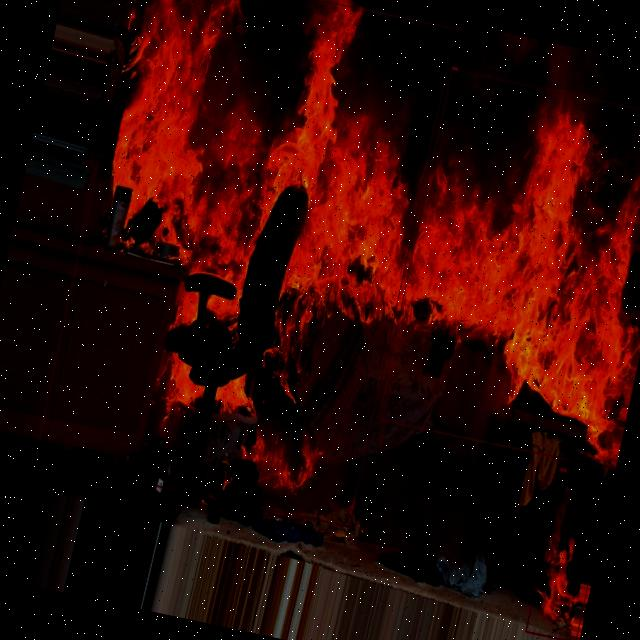fire: (32, 0, 455, 526), (376, 68, 640, 469), (524, 470, 609, 640)
